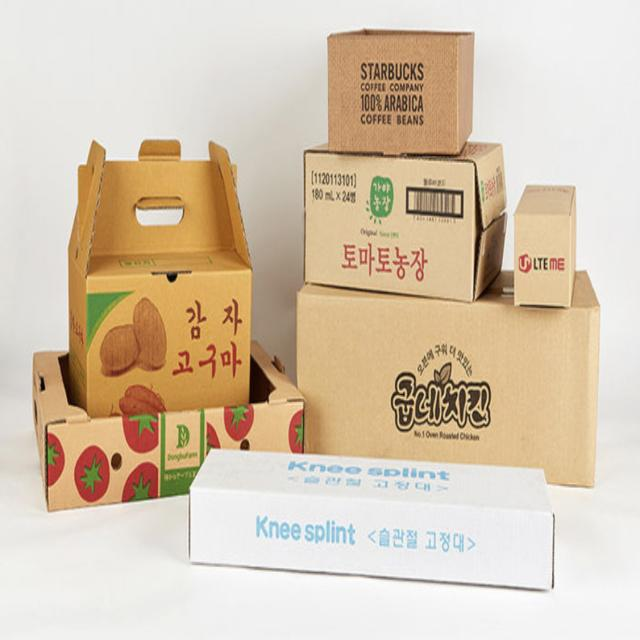biodegradable: (288, 234, 618, 538), (178, 410, 602, 620), (60, 107, 259, 431), (300, 7, 494, 167)
